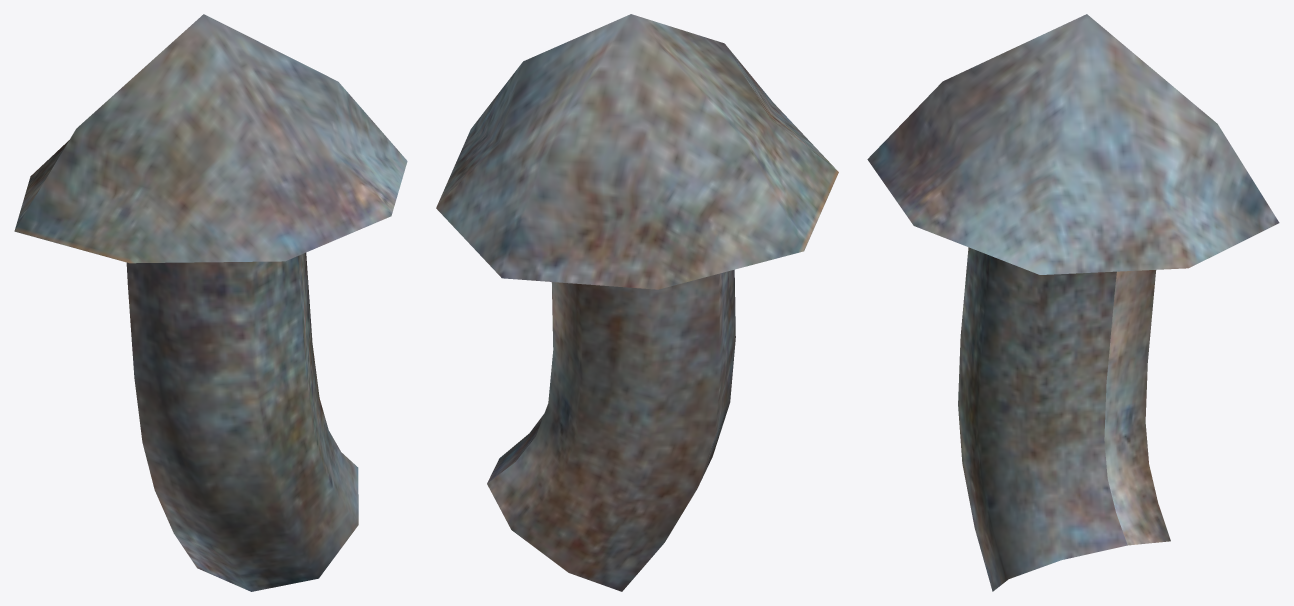
File: pipe_LOD50.glb
3 renders of one model, left to right at view 1: azimuth 30°, elevation 25°; view 2: azimuth 150°, elevation 25°; view 3: azimuth 270°, elevation 25°, orthographic. The views are drawn at different scales.
Parts seen in each view (by area): view 1: oldmetal.jpg__; view 2: oldmetal.jpg__; view 3: oldmetal.jpg__.
Part boxes in pixels (x1,y1,x2,y2): oldmetal.jpg__: (14, 14, 407, 591); oldmetal.jpg__: (436, 14, 838, 591); oldmetal.jpg__: (867, 14, 1279, 591).
Bounding box in the file's own units: 2.61 × 3.91 × 2.59.
1 material, 1 textured.
